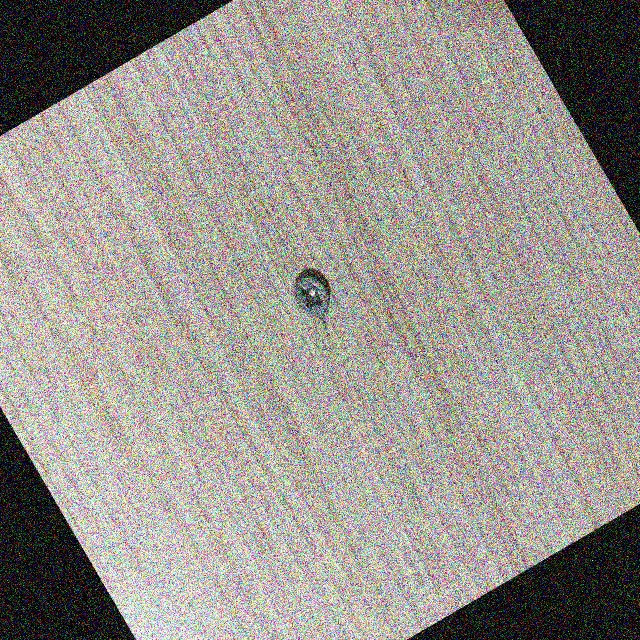pozidriv: (288, 269, 337, 322)
